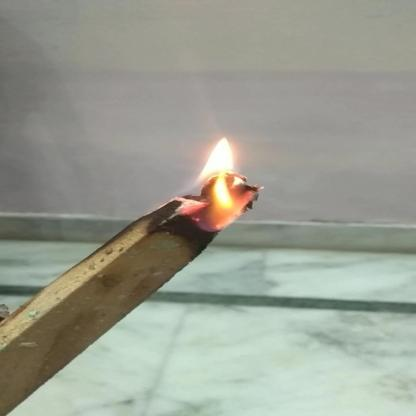fire: (171, 130, 266, 237)
